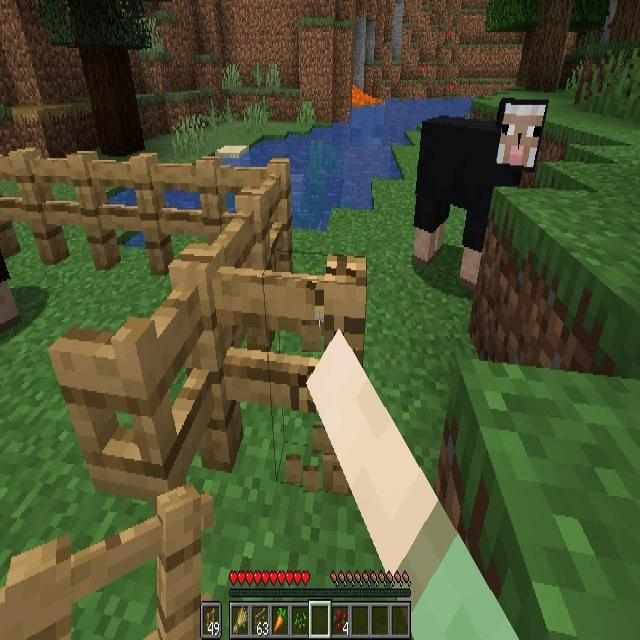sheep: (417, 99, 548, 284)
